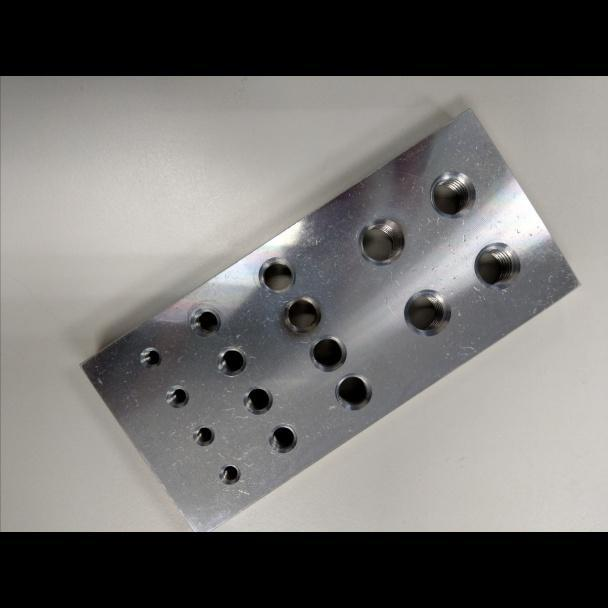hole: (401, 289, 452, 338), (428, 169, 476, 220), (472, 241, 521, 290), (357, 218, 405, 267), (307, 333, 347, 373), (281, 295, 322, 334), (334, 372, 373, 412), (258, 256, 296, 295), (214, 345, 247, 377), (189, 307, 221, 338), (242, 385, 274, 416), (267, 423, 298, 455), (164, 384, 190, 410), (139, 346, 163, 370), (191, 424, 216, 447), (216, 463, 241, 486)
